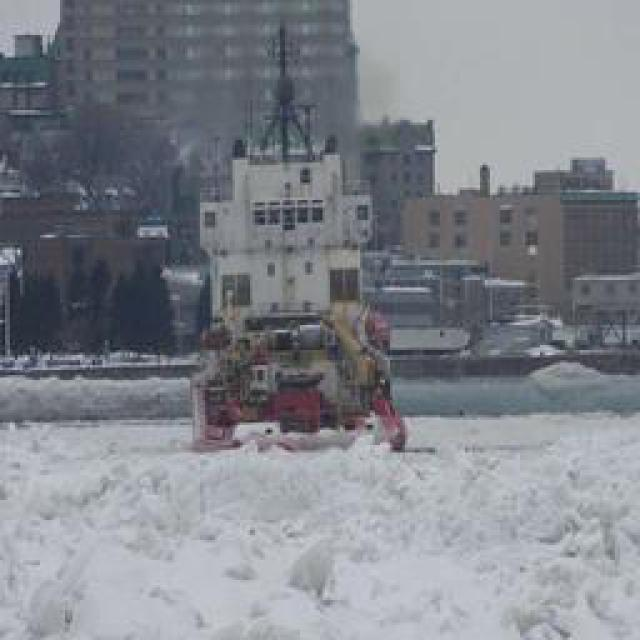Ship: (190, 13, 418, 459)
